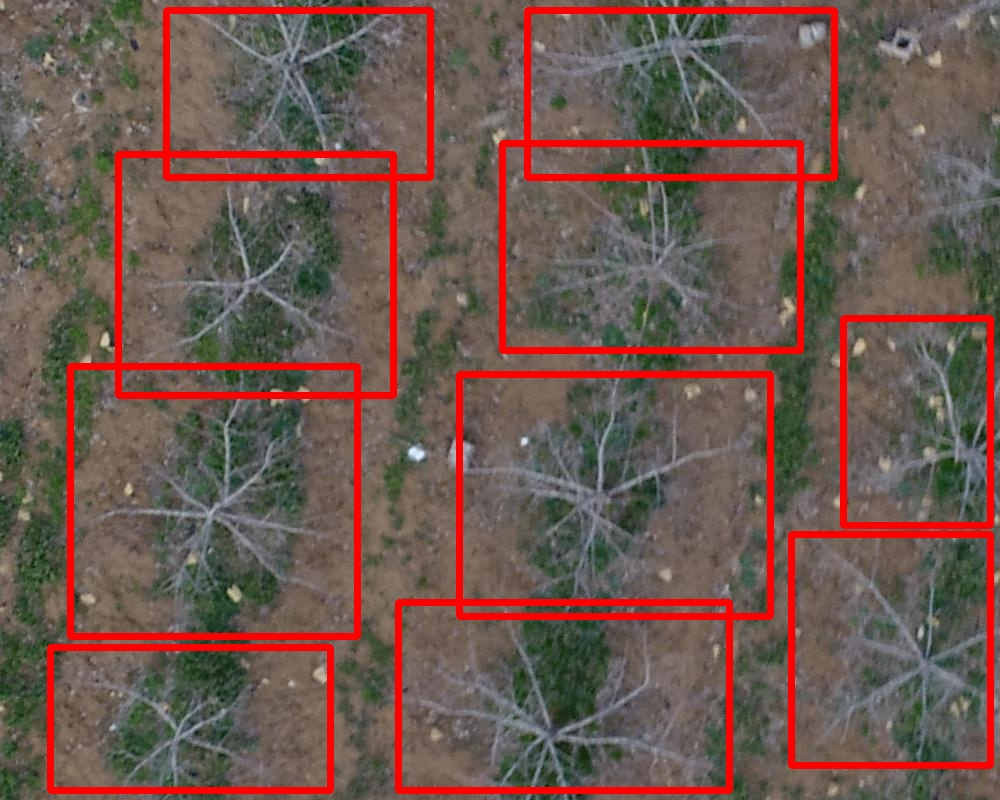apple: (70, 366, 357, 636), (459, 374, 770, 616), (118, 154, 393, 395), (398, 602, 729, 790), (502, 143, 800, 350), (527, 10, 834, 177), (791, 534, 990, 765), (166, 10, 430, 177), (50, 647, 330, 790), (843, 318, 990, 525)
